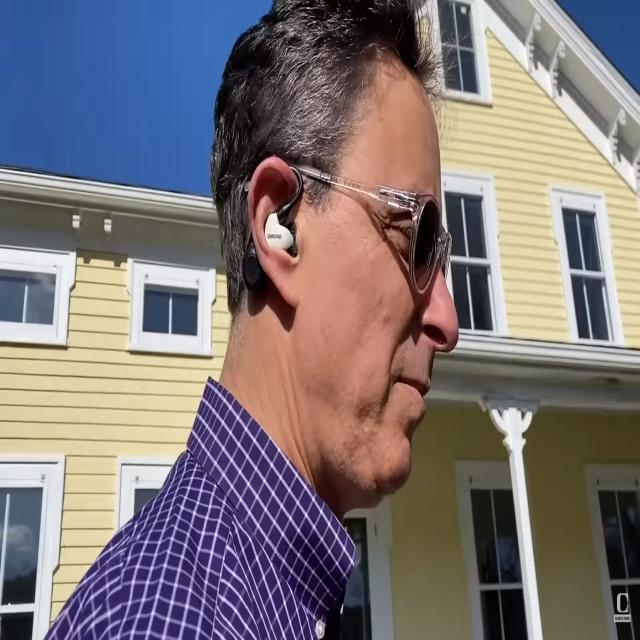airpods: (240, 162, 304, 294)
